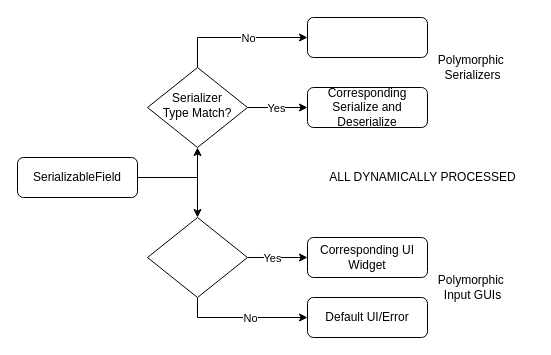
Image size: 551x355. Some labels were removed from this diagram. The shapes that lost their labels are listed below. From the top down, each one's centre as x and y in pixels, then its label:
(367,37): Default Serializer/Error
(197,257): UI Field Type Match?
